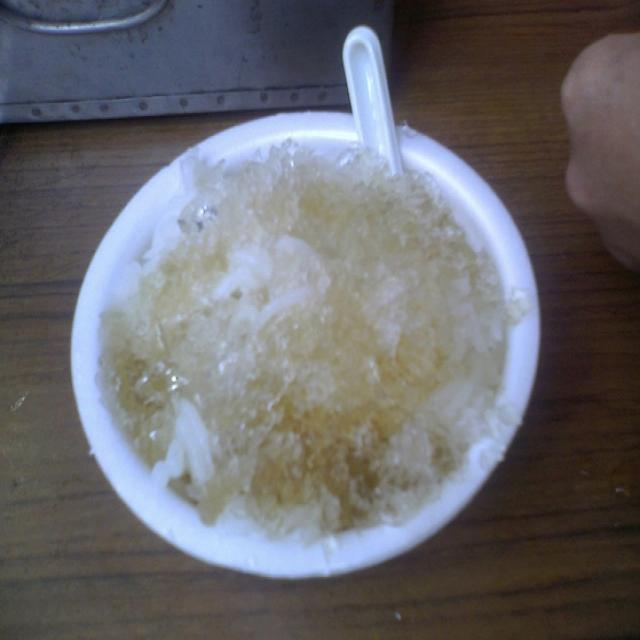蛋糕甜品: (75, 109, 528, 561)
